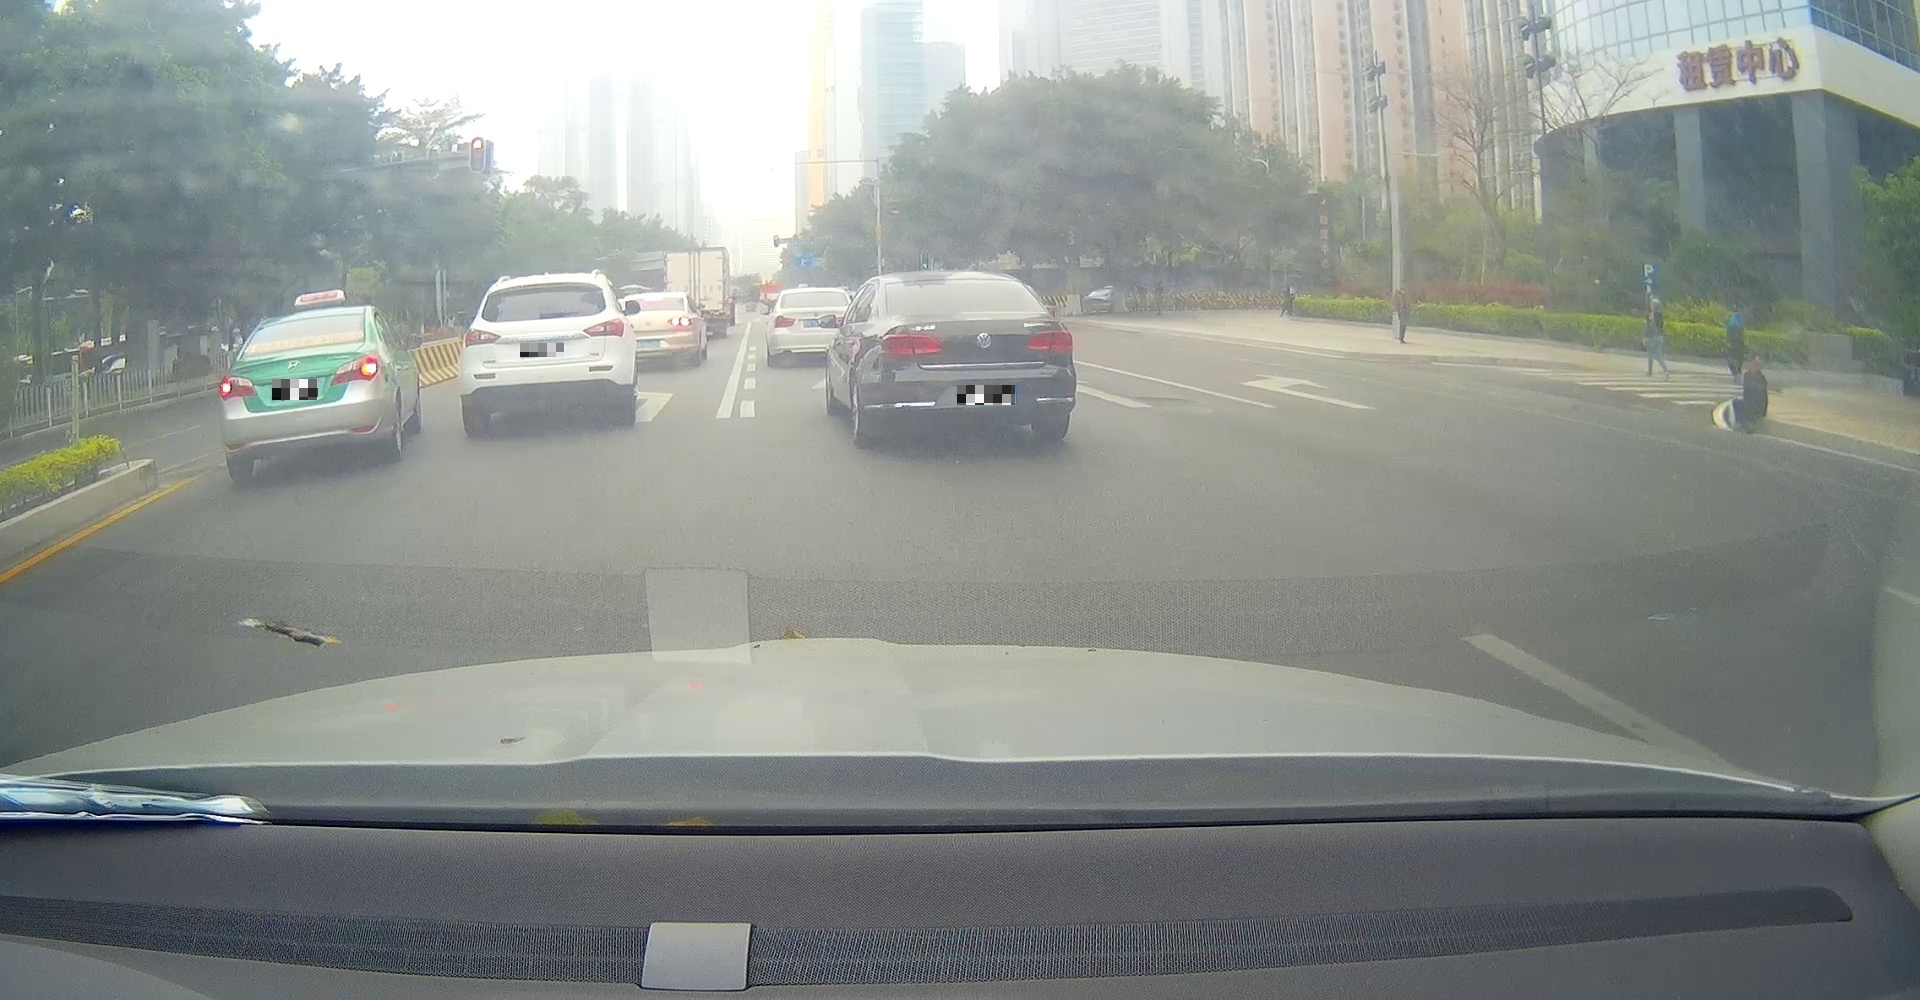L_light: (883, 334, 942, 357), (218, 376, 257, 400), (465, 327, 502, 346)
R_light: (330, 354, 378, 385), (1026, 330, 1072, 353), (583, 319, 623, 338)
T_light: (945, 280, 971, 286), (295, 320, 317, 325), (535, 286, 557, 291)
day-no: (877, 274, 1076, 442), (217, 306, 381, 484), (458, 275, 634, 437)
plate_1: (272, 379, 317, 400)
plate_2: (521, 343, 564, 357)
plate_3: (957, 385, 1015, 405)
